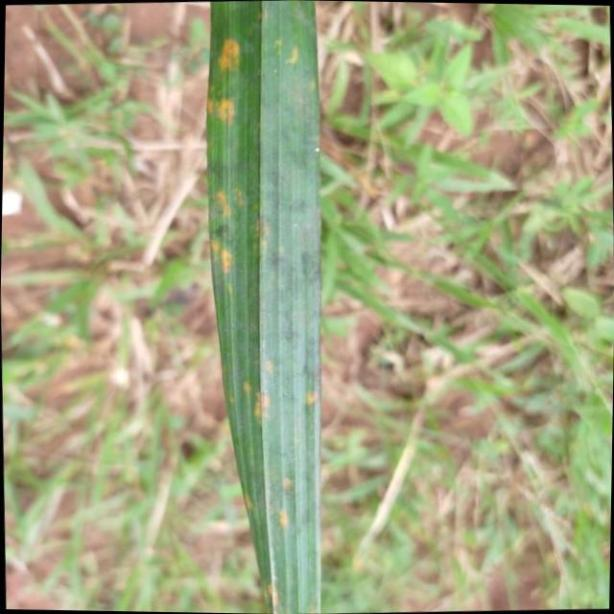Kalium: (205, 0, 328, 614)
